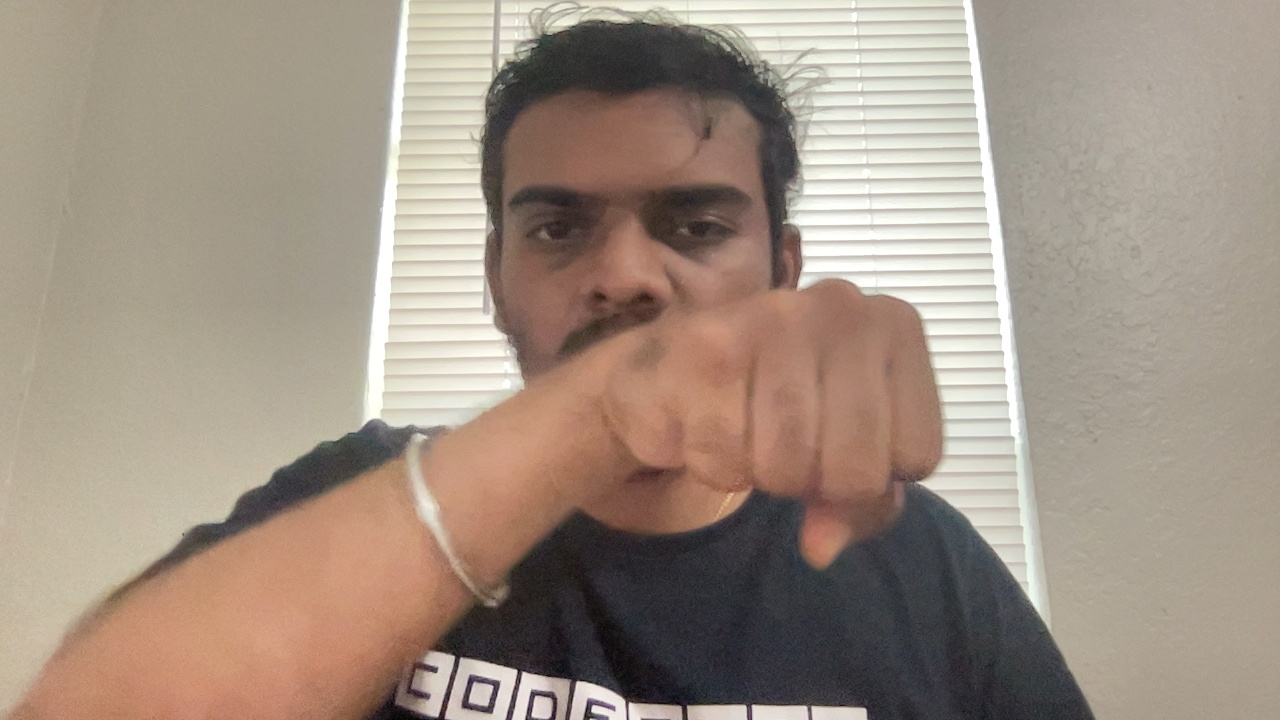yes: (635, 268, 955, 578)
